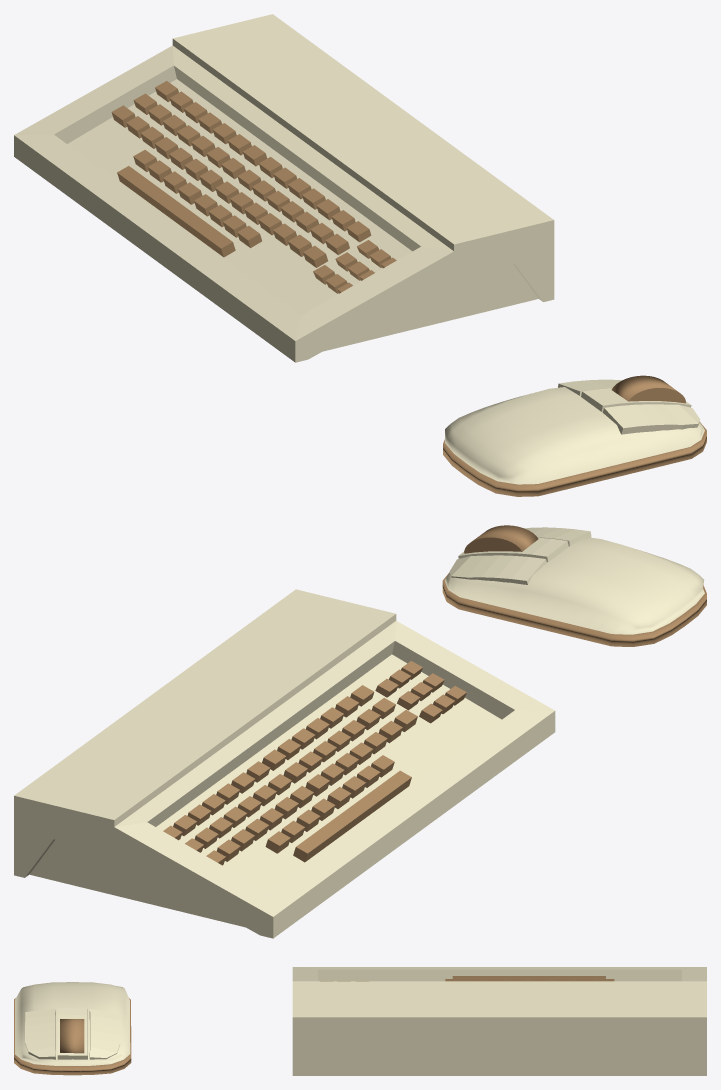
The model's file is Keyboard&Mouse_tier6.fbx.
3 renders of one model, top to bottom at view 1: azimuth 30°, elevation 25°; view 2: azimuth 150°, elevation 25°; view 3: azimuth 270°, elevation 25°, orthographic. The views are drawn at different scales.
Parts seen in each view (by area): view 1: Cube, Cube.001, Cube.024, Cube.002, Cube.023, Cylinder; view 2: Cube, Cube.024, Cube.001, Cube.002, Cube.023, Cylinder; view 3: Cube, Cube.024, Cube.002, Cube.001, Cylinder.
Boxes of the visible parts, box(x1,y1,x2,y2) form: Cube: box(14, 14, 554, 362); Cube.001: box(111, 81, 371, 267); Cube.024: box(443, 387, 706, 496); Cube.002: box(558, 379, 700, 434); Cube.023: box(313, 240, 396, 293); Cylinder: box(611, 375, 685, 403); Cube: box(14, 589, 555, 938); Cube.024: box(442, 537, 706, 646); Cube.001: box(163, 685, 417, 865); Cube.002: box(449, 527, 591, 584); Cube.023: box(375, 661, 466, 723); Cylinder: box(464, 525, 538, 553); Cube: box(292, 967, 706, 1075); Cube.024: box(14, 982, 131, 1075); Cube.002: box(25, 1008, 120, 1059); Cube.001: box(445, 976, 614, 981); Cylinder: box(60, 1019, 84, 1053).
Size of the model in its own units: 0.3689 by 0.1192 by 1.16.
